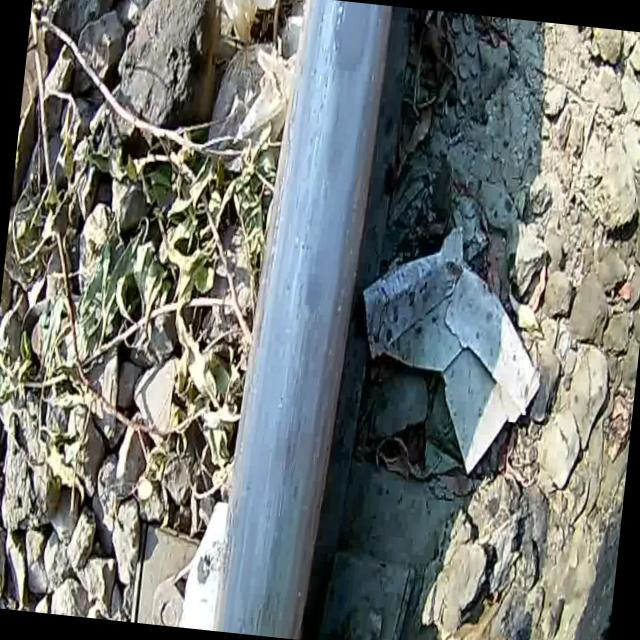Squats: (190, 0, 412, 640)
